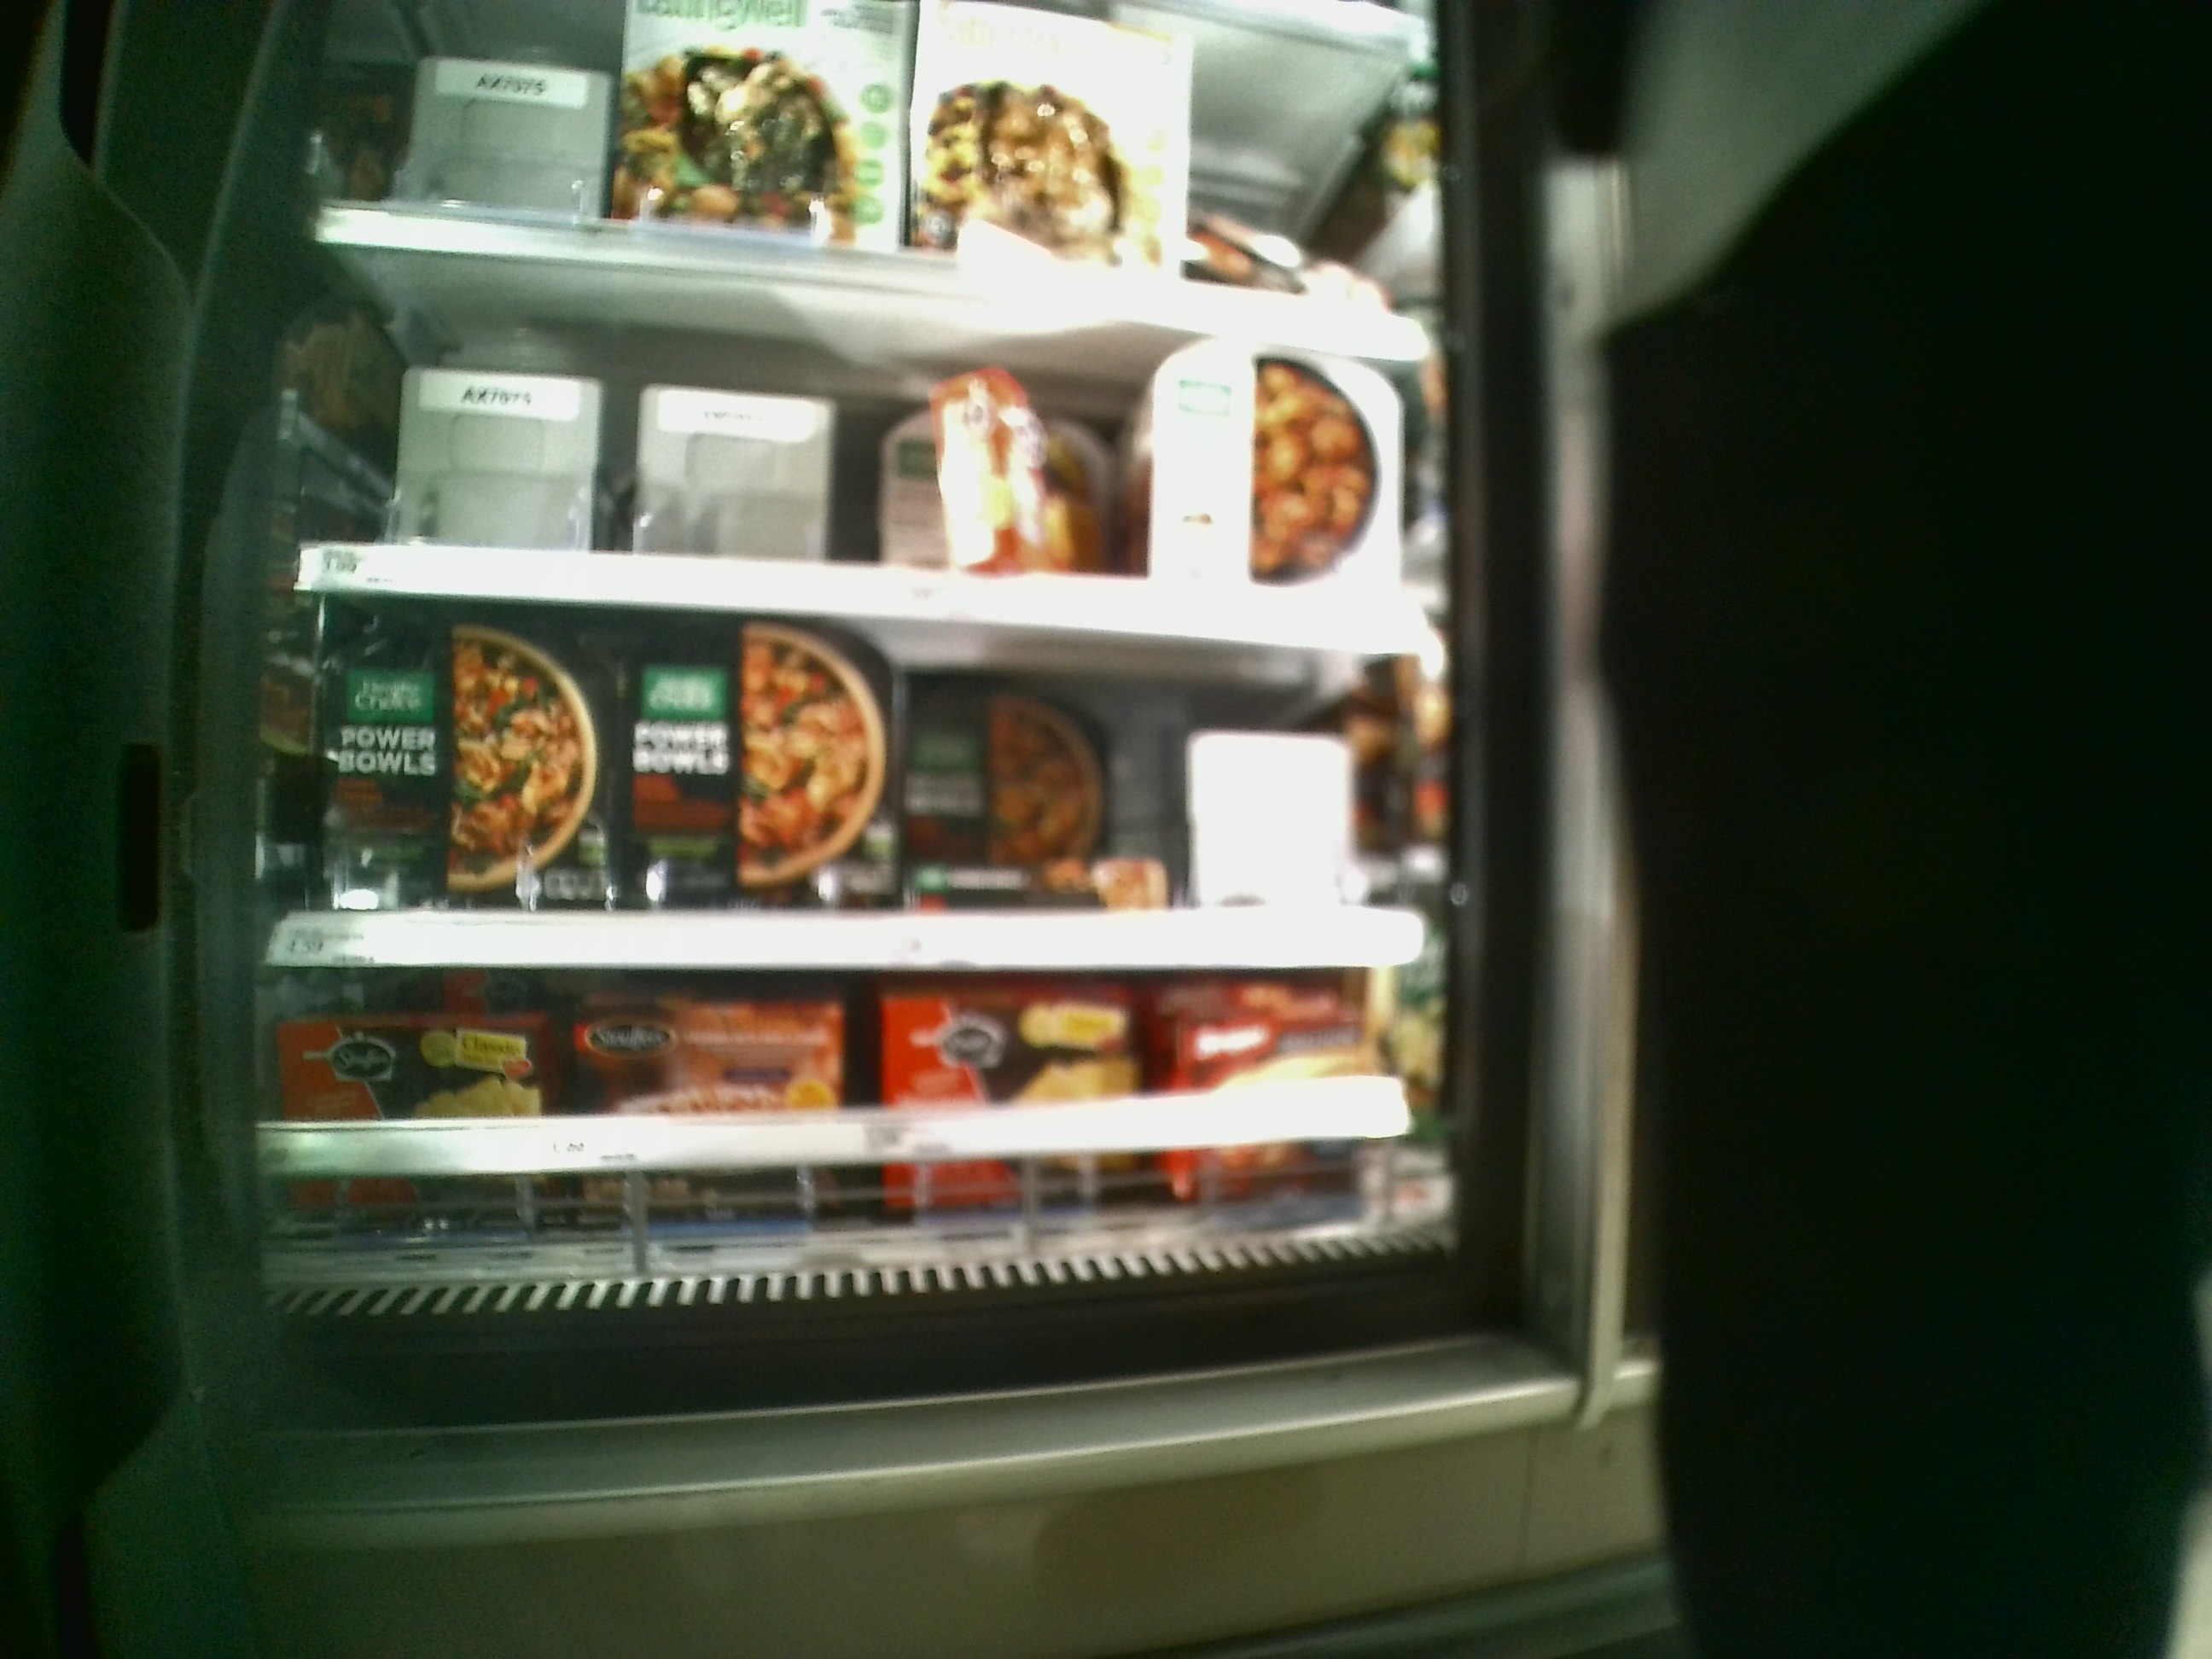shelf: (296, 247, 1439, 643), (246, 969, 1486, 1321), (286, 592, 1456, 964)
